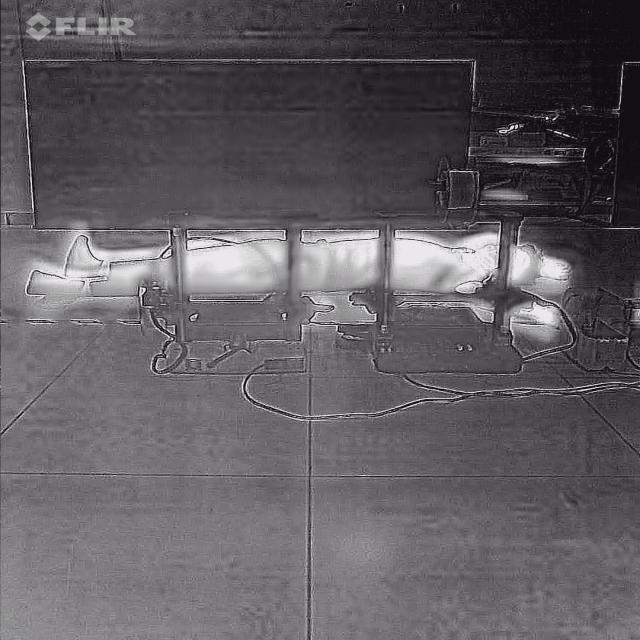Victim: (19, 221, 584, 338)
